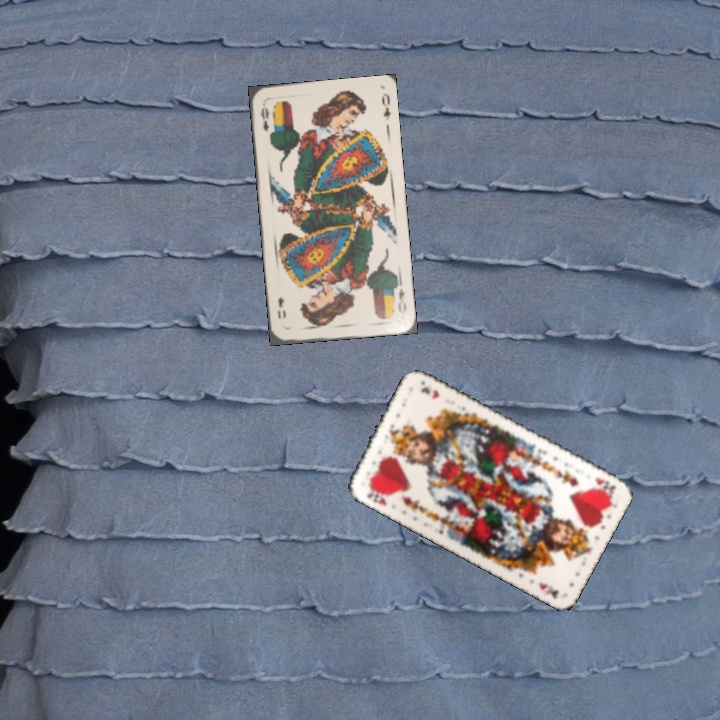EO: (389, 277, 409, 316), (256, 100, 272, 133)
HK: (362, 480, 393, 509), (591, 473, 619, 496)
